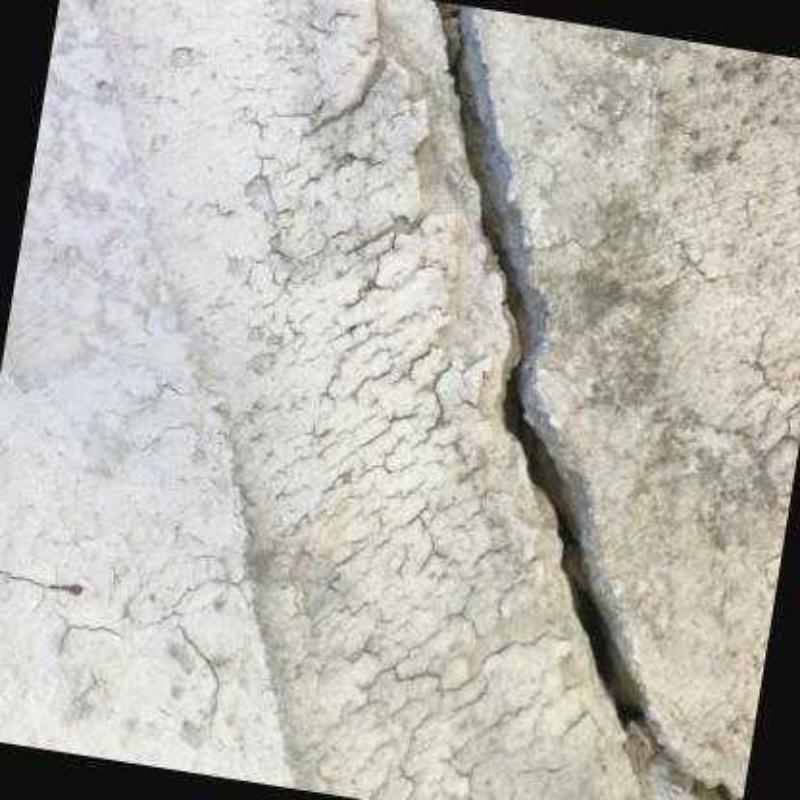pothole: (433, 0, 743, 800)
